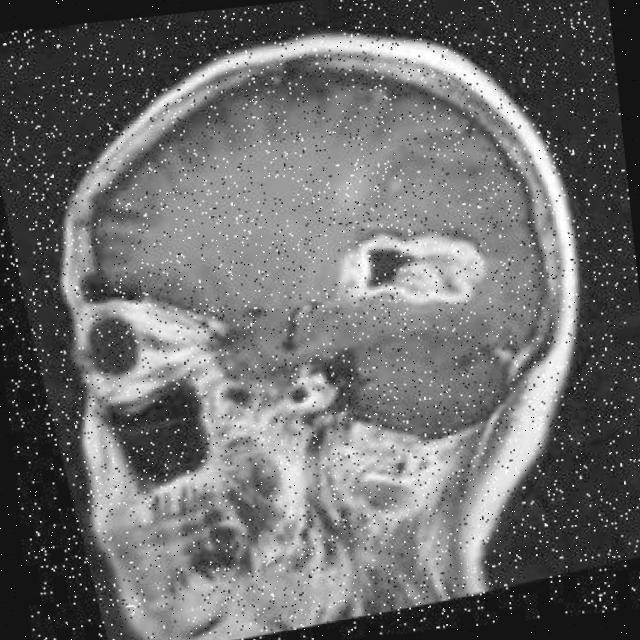LMCI: (296, 221, 495, 355)
